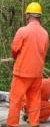boots: (0, 120, 18, 127), (1, 122, 19, 127)
gloves: (0, 47, 14, 62), (0, 57, 6, 64)
hard-hat: (0, 0, 19, 12)
ppe-suit: (0, 26, 18, 127)
vest: (0, 2, 24, 72)
